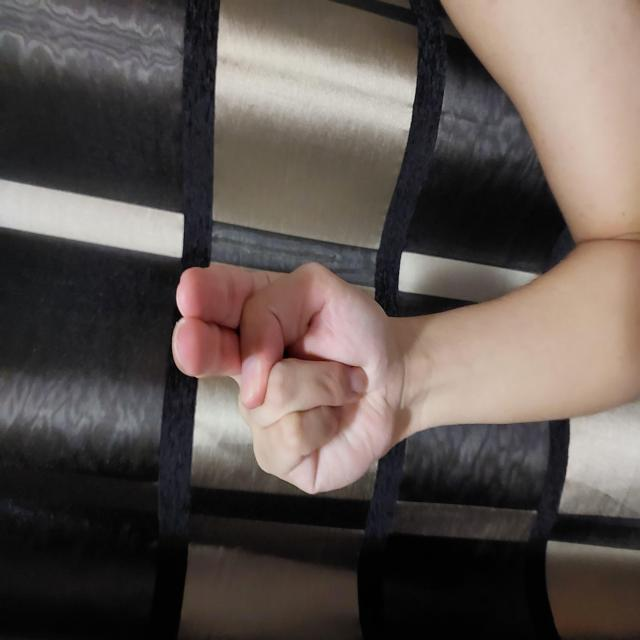N: (143, 170, 381, 403)
